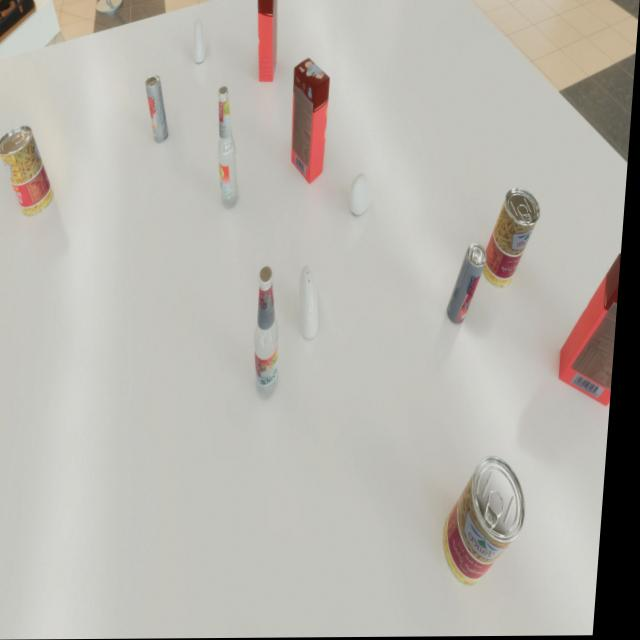Bottle: (255, 266, 291, 400), (213, 87, 248, 209)
HelloPanda: (563, 254, 625, 407), (288, 58, 332, 185), (253, 0, 282, 81)
Potato_sticks: (448, 456, 536, 586), (484, 188, 545, 289), (0, 125, 60, 216)
Rita_zero_sugar: (451, 244, 492, 326), (143, 75, 174, 144)
Salt: (300, 266, 326, 340), (352, 174, 375, 216), (192, 18, 209, 64)
